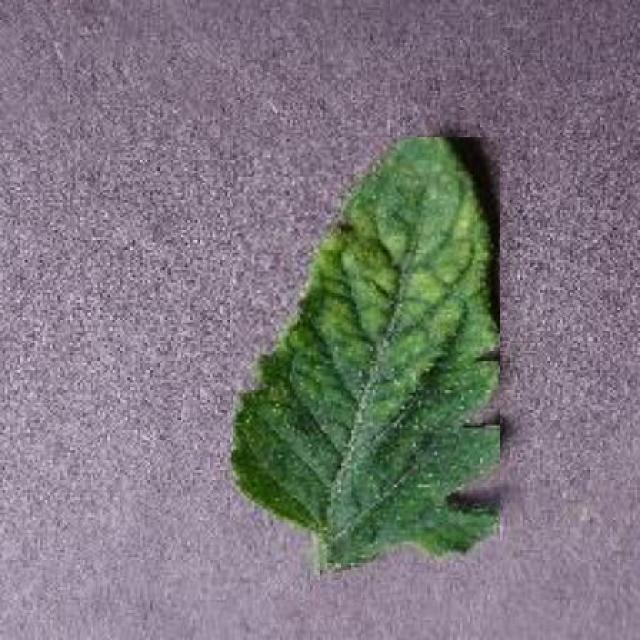Mosaic Virus: (231, 138, 500, 563)
